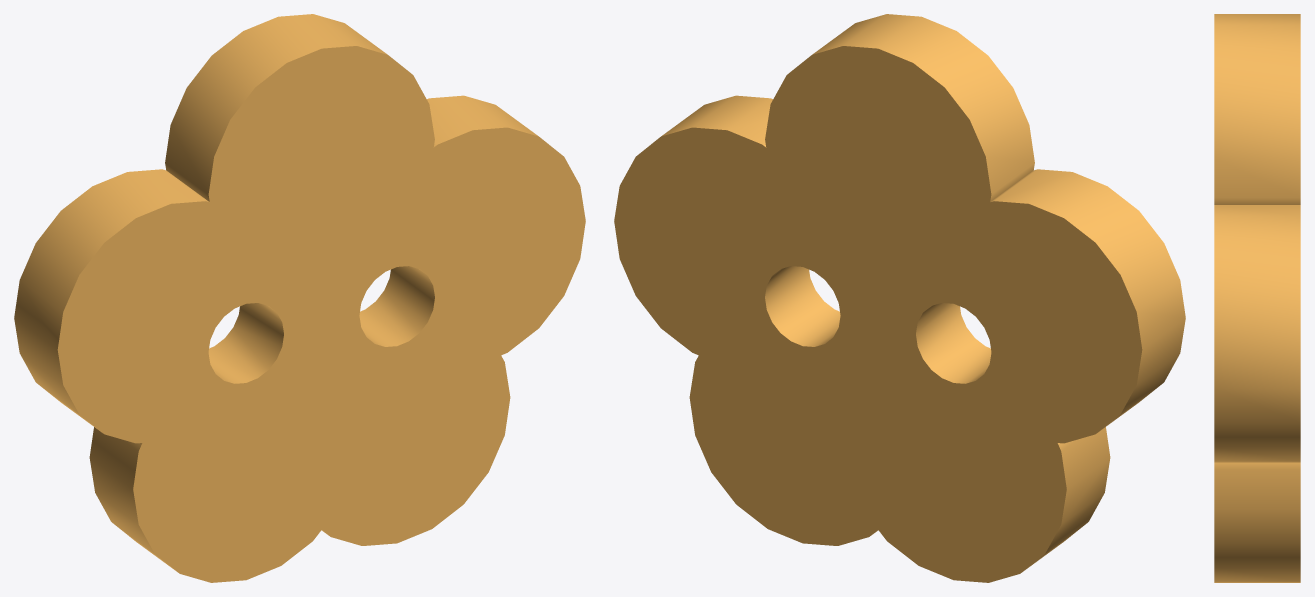
Rendered from flower_button.glb.
3 views of the same model, side by side, from view 1: azimuth 30°, elevation 25°; view 2: azimuth 150°, elevation 25°; view 3: azimuth 270°, elevation 25° (orthographic).
Visible parts, largest first — view 1: Object_2; view 2: Object_2; view 3: Object_2.
Boxes of the visible parts, x1,y1,x2,y2 form: Object_2: (14,14,585,582); Object_2: (614,14,1185,582); Object_2: (1214,14,1300,582).
Size of the model in its own units: 14 by 13 by 2.
